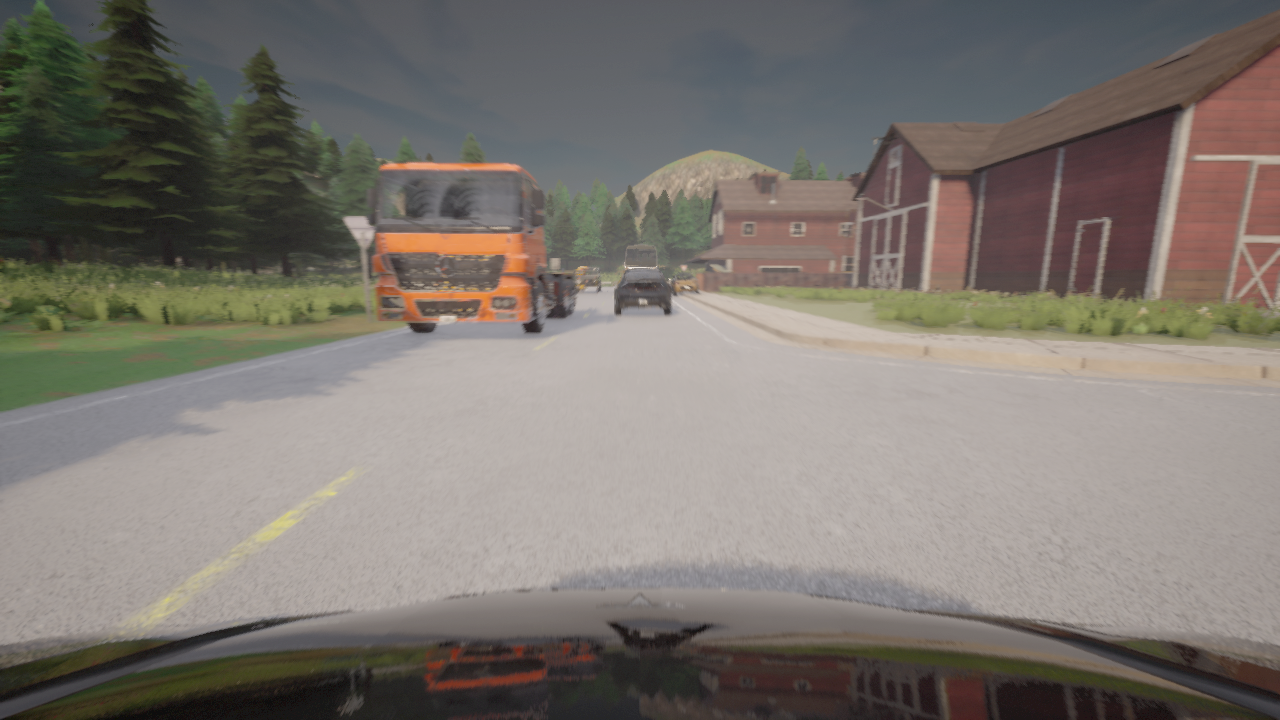cyclist: (0, 588, 1279, 719), (367, 163, 575, 334), (612, 269, 671, 314), (623, 244, 657, 270), (574, 267, 602, 293), (669, 273, 698, 295)
